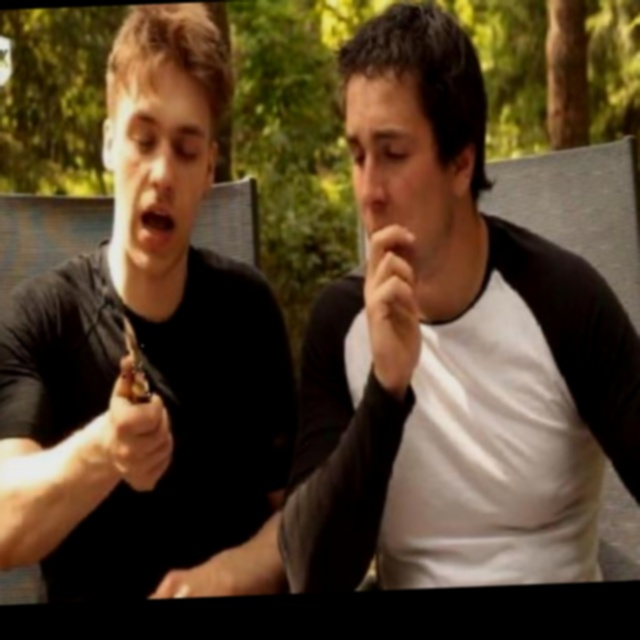Sharp-Object: (120, 316, 152, 405)
